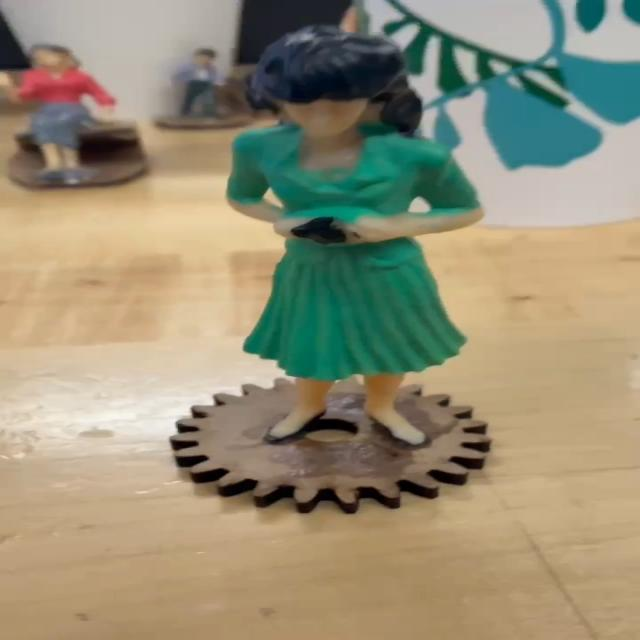Authorized: (160, 32, 548, 516)
